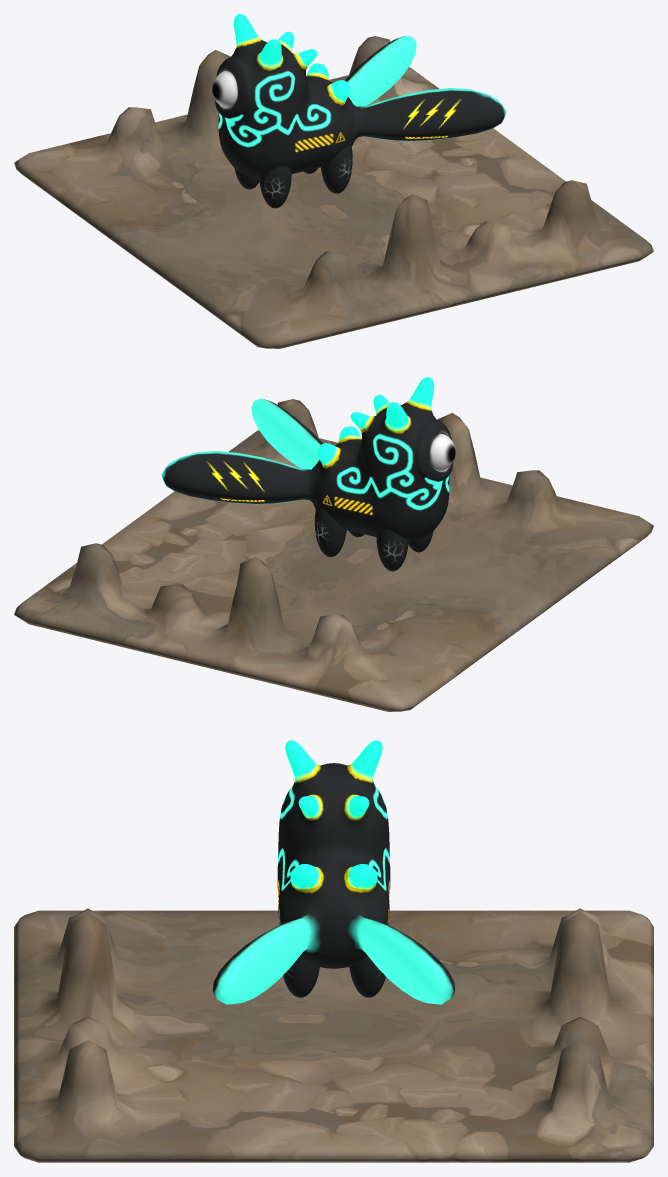
3 renders of one model, top to bottom at view 1: azimuth 30°, elevation 25°; view 2: azimuth 150°, elevation 25°; view 3: azimuth 270°, elevation 25°, orthographic. The views are drawn at different scales.
Visible parts, largest first — view 1: platform, monster1; view 2: platform, monster1; view 3: platform, monster1.
Part boxes in pixels (box(x1,y1,x2,y2)): platform: box(14, 36, 653, 348); monster1: box(212, 14, 506, 208); platform: box(14, 399, 653, 711); monster1: box(161, 377, 455, 571); platform: box(14, 908, 653, 1162); monster1: box(213, 740, 454, 1004).
Size of the model in its own units: 12.76 by 6.33 by 14.19.
Materials: 2 (2 with a texture image).
